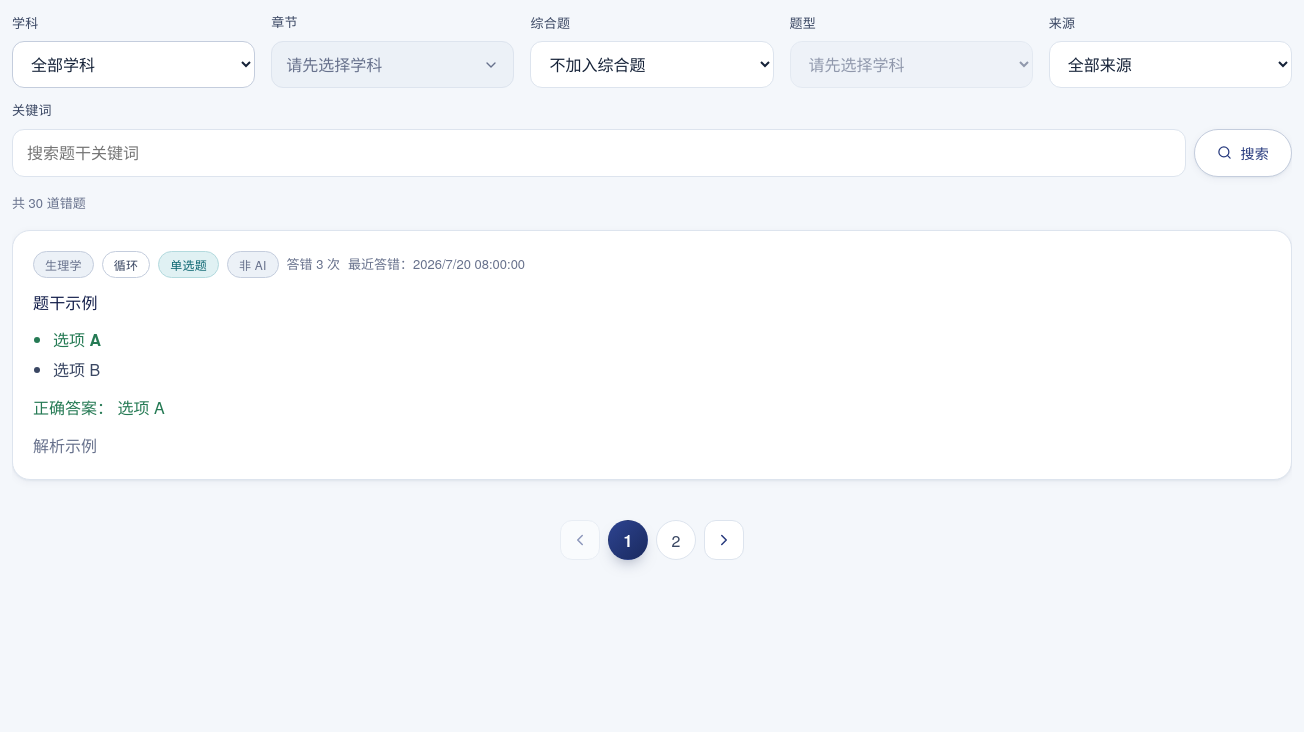
Test: QuizWrong pagination › rolls back pagination and hides stale results when a filtered request fails
Select "生理学" in the dropdown with id "wrong-subject": (134, 65) [12,41,255,88]
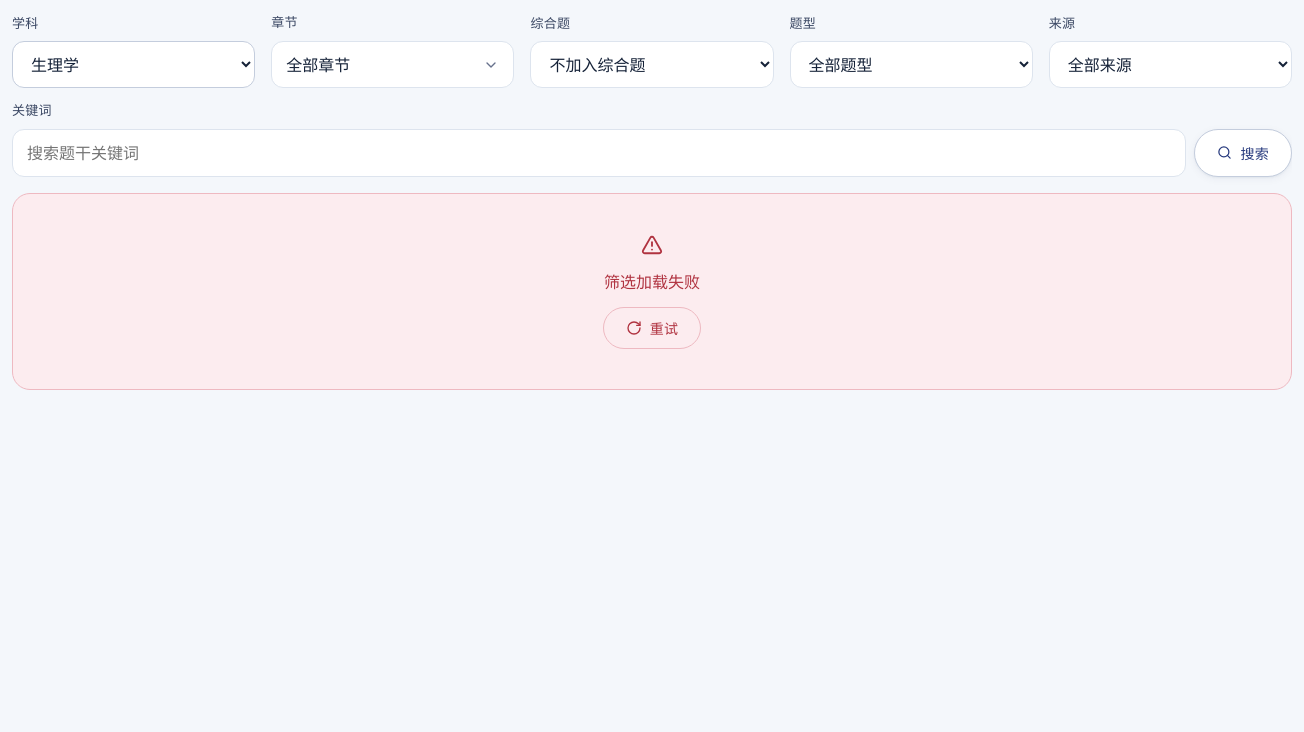
expect the message "筛选加载失败 重试" is shown: met, box [12,193,1292,390]
expect the text "题干示例" is gone: met
